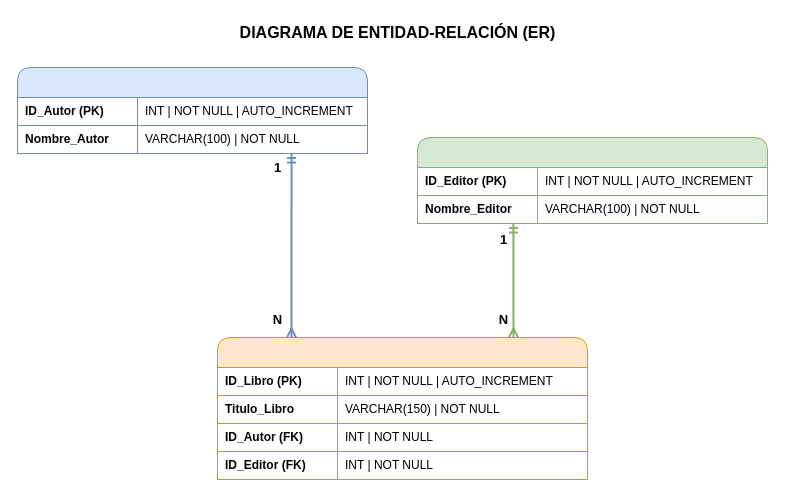
This 785x497 diagram has some shape labels left out. The shapes that lost their labels are listed below. From the top down, each one's box as (x1, y1, x2, y2) in pixels, then its label:
(16, 66, 368, 154): Autores
(416, 136, 768, 224): Editores
(216, 336, 588, 480): Libros
